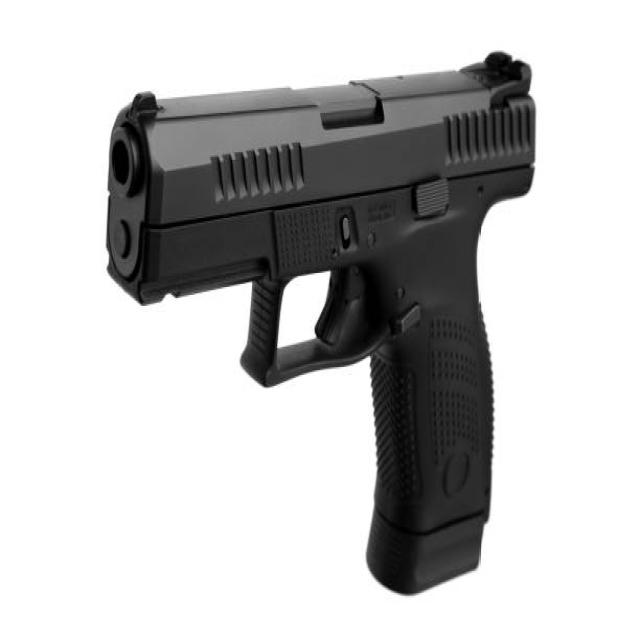pistol: (102, 37, 539, 604)
